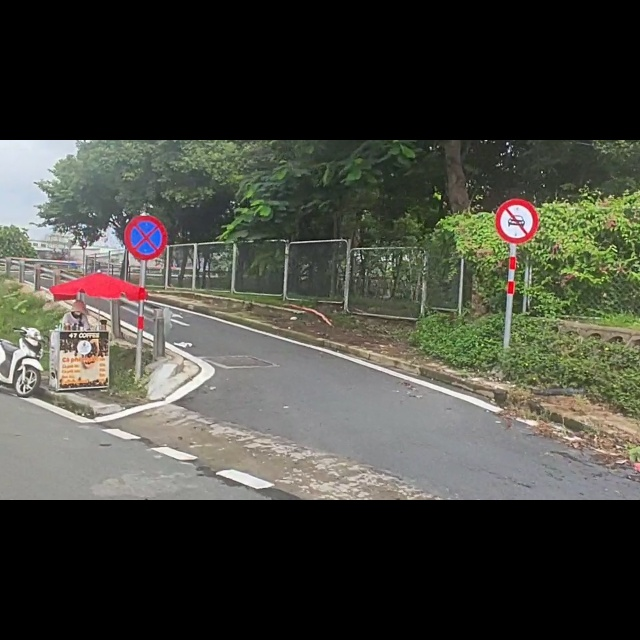bien_cam: (494, 102, 539, 187), (124, 133, 168, 217)
